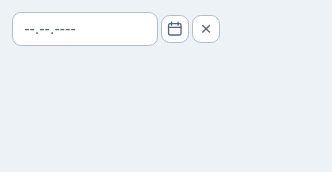
Test: inserts separators during manual date input and supports deleting them
The image size is (332, 172).
Later steps or results of the test are not shown.
Type "1" into the field named "Значение". click: (85, 29)
box: x1=12 y1=12 x2=158 y2=46
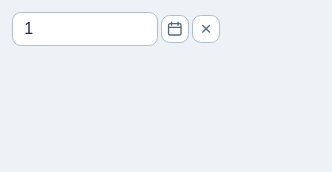
Replace the text in the field named "Значение" with "12". click: (85, 29)
box: x1=12 y1=12 x2=158 y2=46
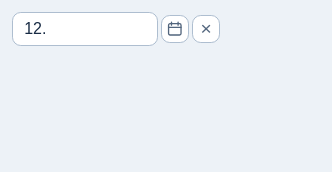
Check: the field named "Значение" holds "12."
Replace the text in the field named "Значение" with "12.0". click: (85, 29)
box: x1=12 y1=12 x2=158 y2=46
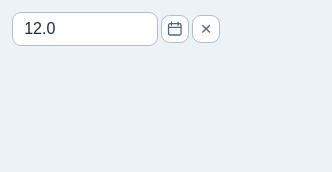
Replace the text in the field named "Значение" with "12.03". click: (85, 29)
box: x1=12 y1=12 x2=158 y2=46
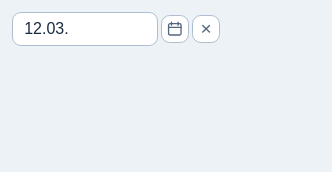
Check: the field named "Значение" holds "12.03.", box x1=12 y1=12 x2=158 y2=46
